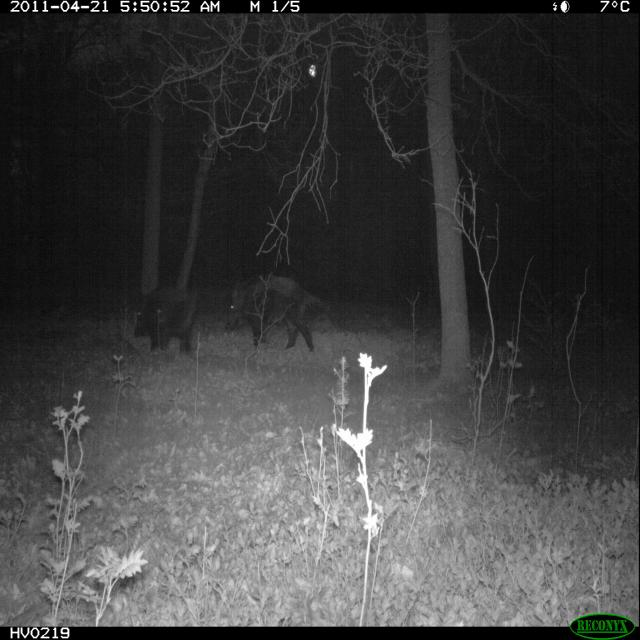boar: (200, 246, 354, 362), (113, 264, 212, 388)
